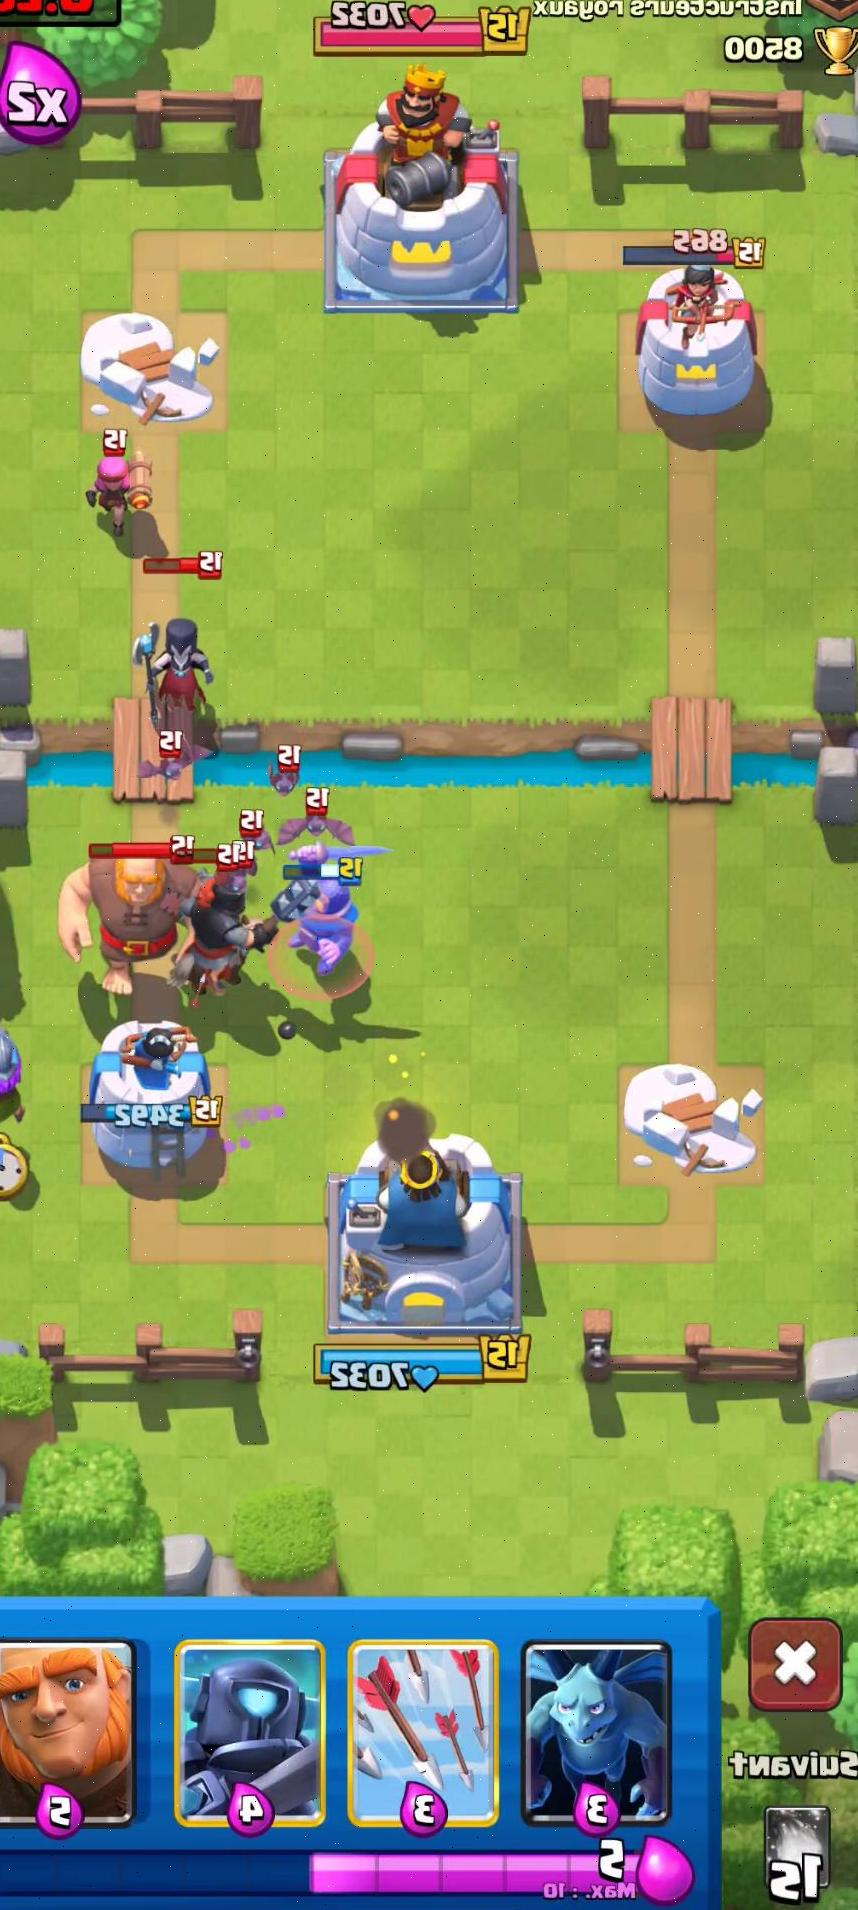enemy_bats: (272, 784, 355, 846), (136, 719, 211, 782), (217, 815, 280, 872), (257, 746, 319, 798)
enemy_dark_prince: (169, 865, 302, 999)
enemy_firecracker: (76, 433, 162, 532)
enemy_giant: (53, 830, 209, 993)
enemy_night_witch: (125, 552, 228, 712)
player_knight: (283, 832, 373, 986)
player_musketeer: (0, 1009, 35, 1131)
